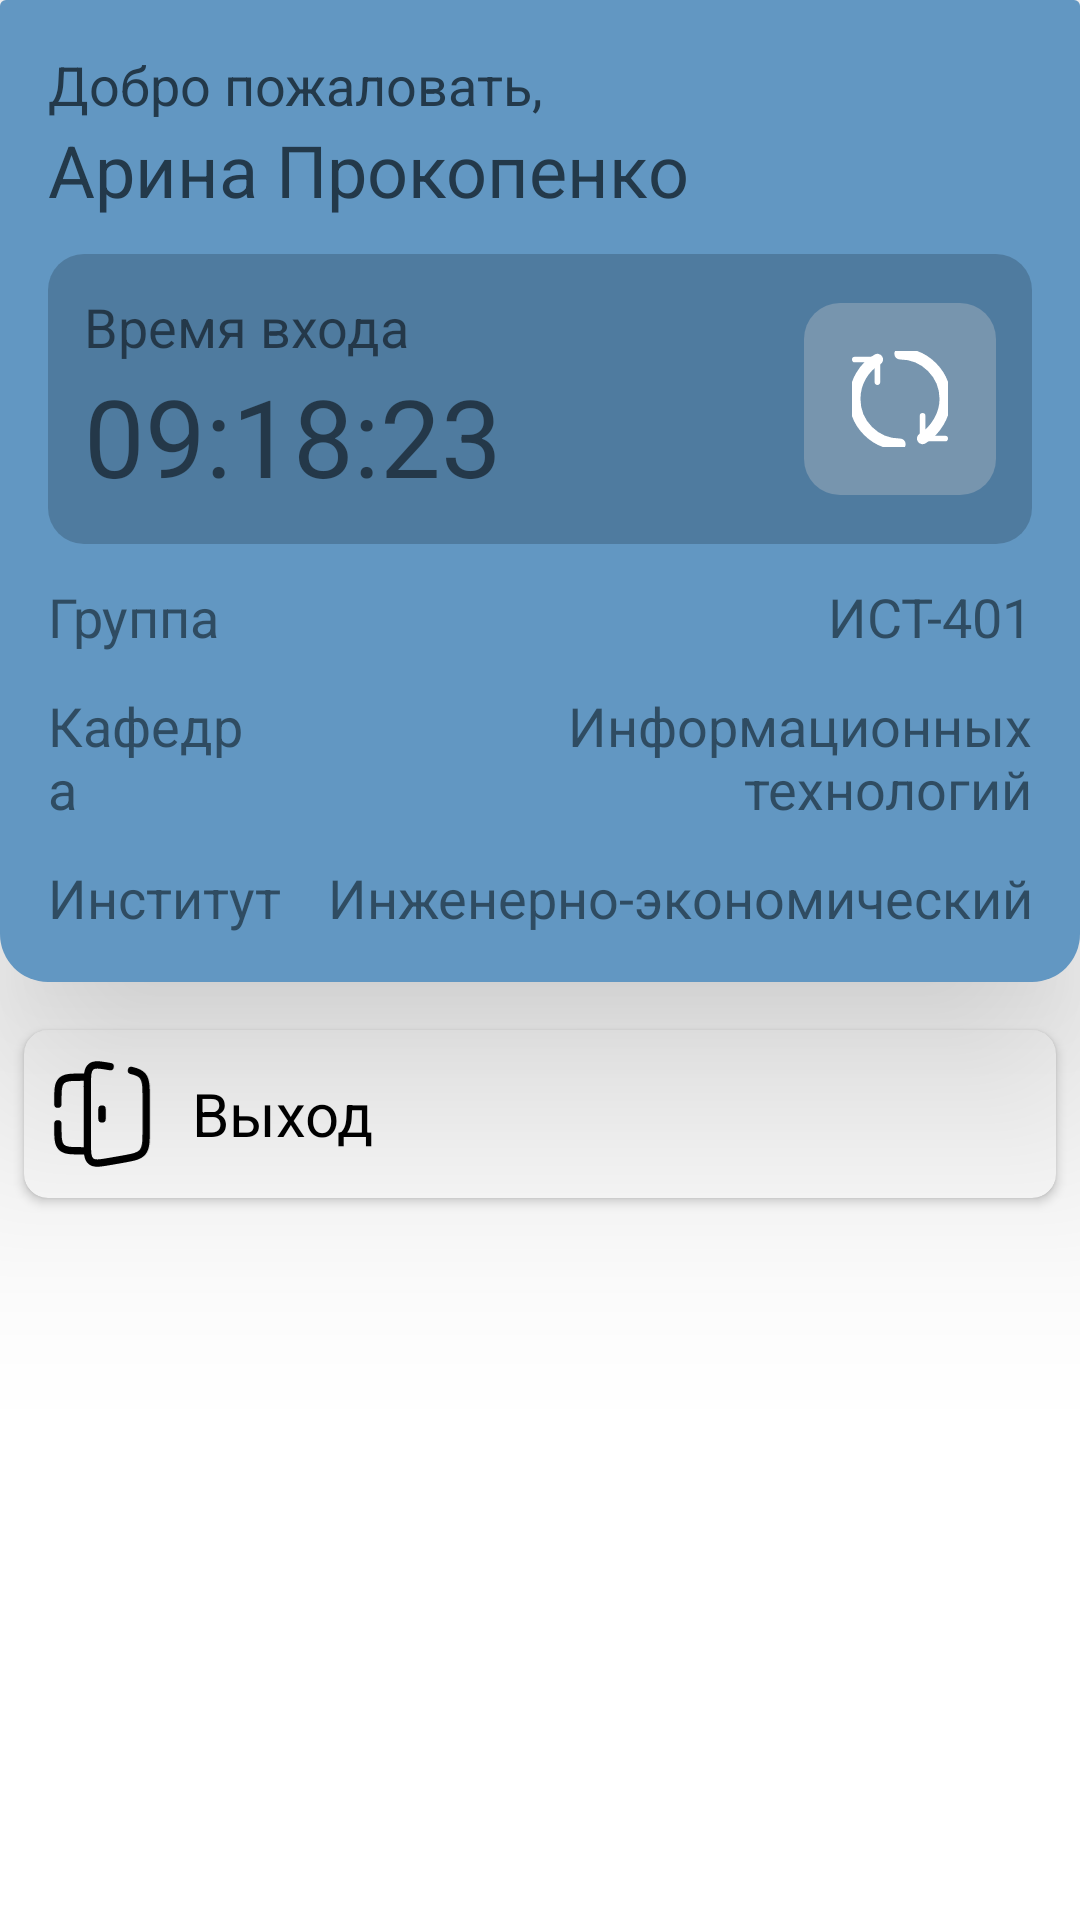

Icons on this 1080px×1920px Android screen, each with its box as box(x1, y1, x2, y2):
refrsh: box(852, 351, 948, 447)
